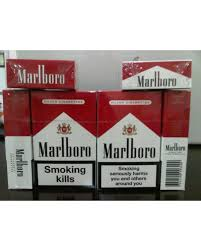marlboro: (31, 90, 97, 188), (97, 90, 160, 188)
